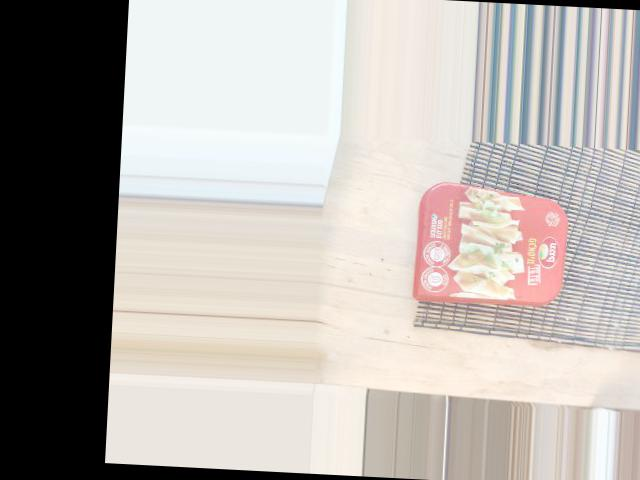cheese: (474, 142, 624, 304)
